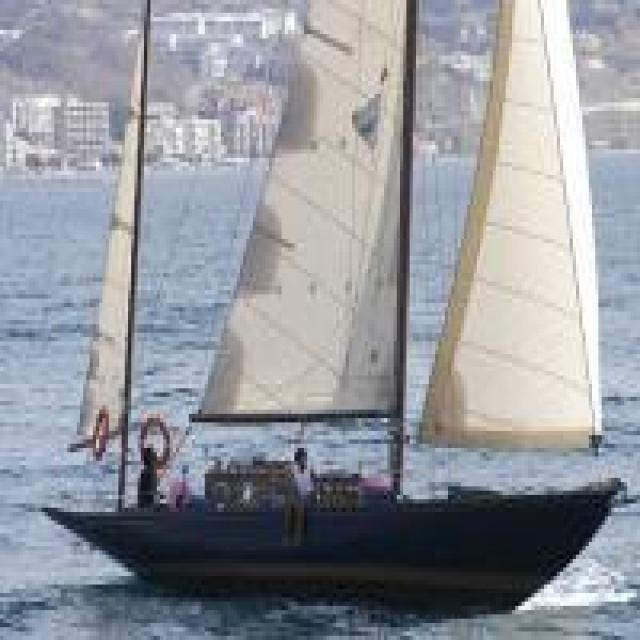Ship: (38, 1, 622, 606)
